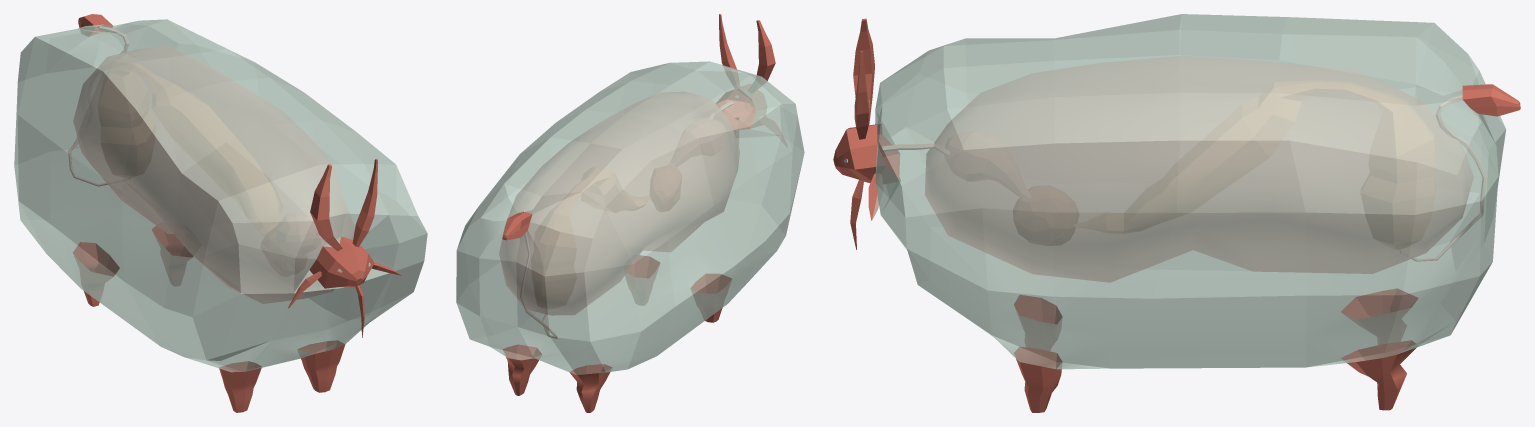
Rendered from yak_test.fbx.
3 renders of one model, left to right at view 1: azimuth 30°, elevation 25°; view 2: azimuth 150°, elevation 25°; view 3: azimuth 270°, elevation 25°, orthographic. The views are drawn at different scales.
Parts seen in each view (by area): view 1: yak_geo, pSphere1, stomach3, stomach1, stomach2, intestine; view 2: yak_geo, pSphere1, stomach3, stomach1, stomach2, intestine; view 3: yak_geo, pSphere1, stomach3, stomach1, stomach2, intestine.
Boxes of the visible parts, <box> form: yak_geo: <box>14,14,427,412</box>; pSphere1: <box>73,46,354,303</box>; stomach3: <box>98,60,281,235</box>; stomach1: <box>276,212,321,254</box>; stomach2: <box>261,228,307,276</box>; intestine: <box>68,26,129,186</box>; yak_geo: <box>456,14,804,412</box>; pSphere1: <box>499,92,739,315</box>; stomach3: <box>531,166,650,308</box>; stomach1: <box>668,119,726,166</box>; stomach2: <box>650,165,681,211</box>; intestine: <box>520,209,557,338</box>; yak_geo: <box>833,14,1520,412</box>; pSphere1: <box>925,56,1473,282</box>; stomach3: <box>1074,80,1435,249</box>; stomach1: <box>945,131,1030,197</box>; stomach2: <box>1013,185,1078,245</box>; intestine: <box>1400,95,1486,261</box>.
Size of the model in its own units: 6.25 by 8.48 by 14.98.
